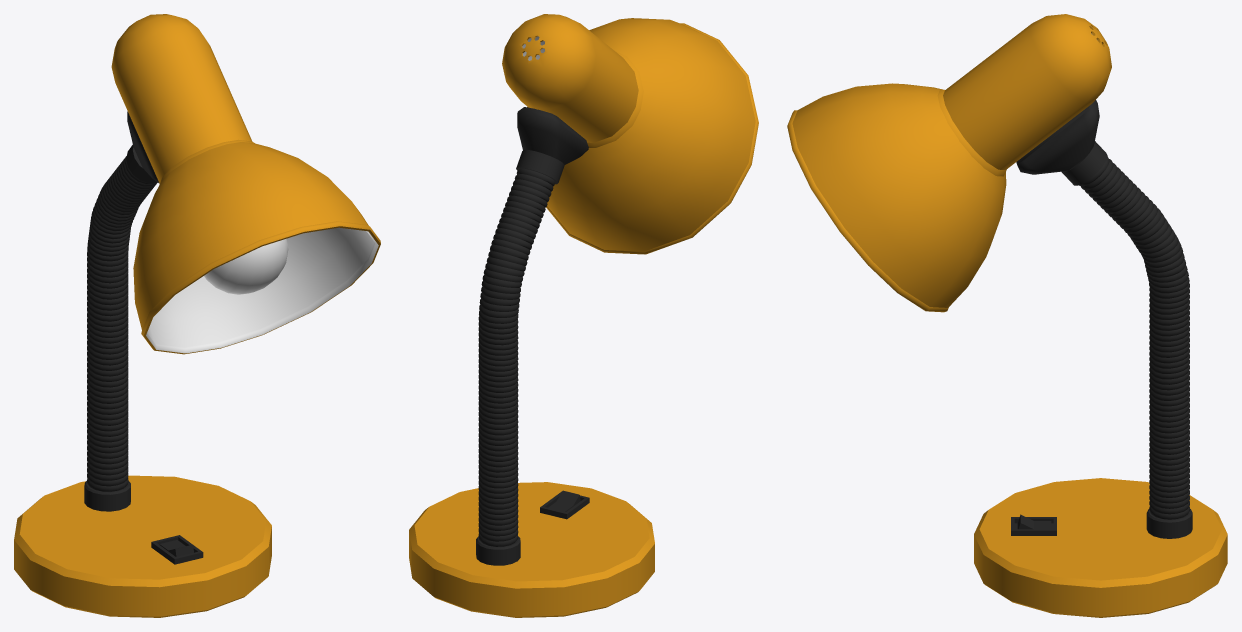
File: lamp.fbx
3 renders of one model, left to right at view 1: azimuth 30°, elevation 25°; view 2: azimuth 150°, elevation 25°; view 3: azimuth 270°, elevation 25°, orthographic. The views are drawn at different scales.
Parts seen in each view (by area): view 1: lamp, lamp_light; view 2: lamp; view 3: lamp.
Boxes of the visible parts, <box> form: lamp: <box>14,14,380,617</box>; lamp_light: <box>204,238,288,294</box>; lamp: <box>409,14,758,617</box>; lamp: <box>787,14,1227,617</box>.
Size of the model in its own units: 396 by 942 by 687.
